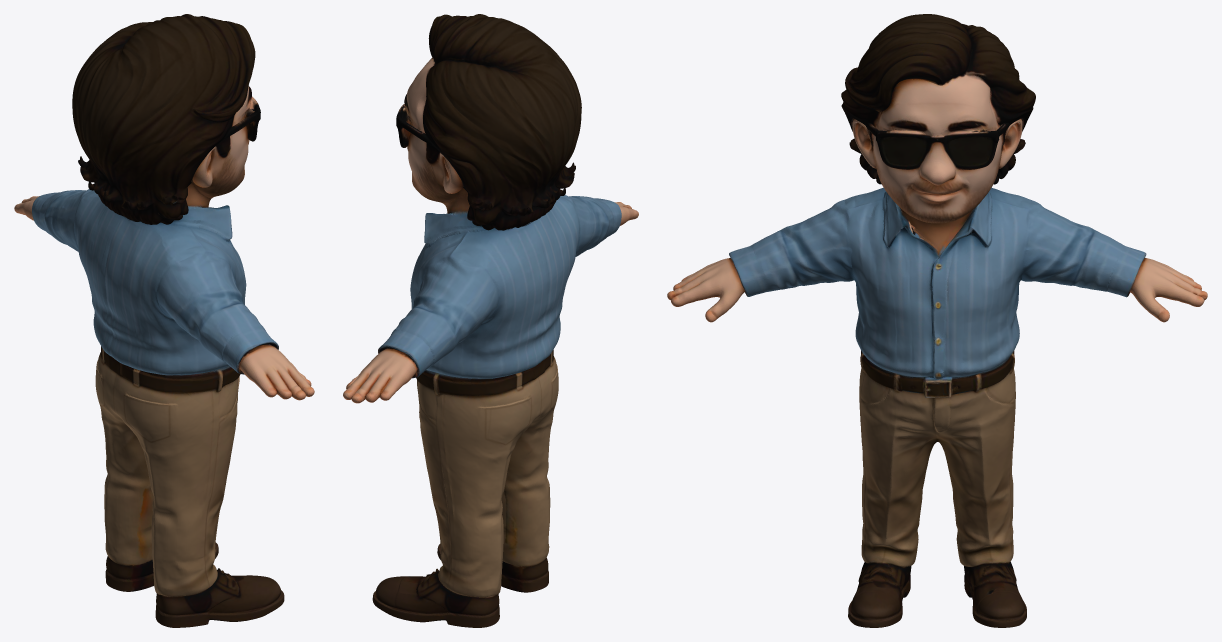
The model's file is Pramil_3d_Grediant.glb.
3 views of the same model, side by side, from view 1: azimuth 30°, elevation 25°; view 2: azimuth 150°, elevation 25°; view 3: azimuth 270°, elevation 25° (orthographic).
Parts seen in each view (by area): view 1: tripo_node_5e3e2ad7-51de-428a-ab87-aa722cf2b7ab; view 2: tripo_node_5e3e2ad7-51de-428a-ab87-aa722cf2b7ab; view 3: tripo_node_5e3e2ad7-51de-428a-ab87-aa722cf2b7ab.
Part boxes in pixels (x1=…): tripo_node_5e3e2ad7-51de-428a-ab87-aa722cf2b7ab: x1=14, y1=14, x2=314, y2=627; tripo_node_5e3e2ad7-51de-428a-ab87-aa722cf2b7ab: x1=343, y1=14, x2=638, y2=627; tripo_node_5e3e2ad7-51de-428a-ab87-aa722cf2b7ab: x1=667, y1=14, x2=1207, y2=627.
Size of the model in its own units: 0.3084 by 1 by 0.8538.
Materials: 1 (1 with a texture image).
